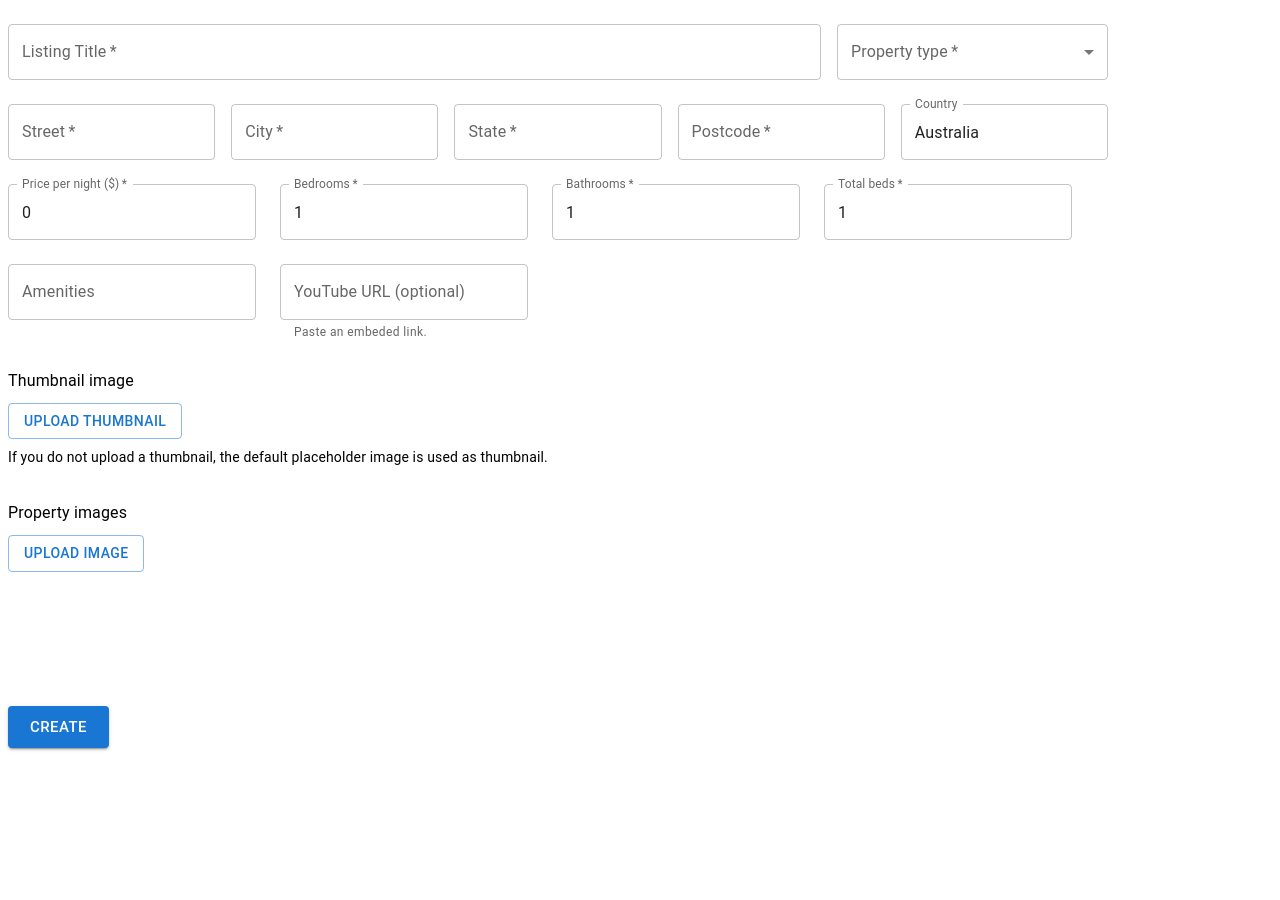
Test case: ListingForm › shows Add button only when amenity input has text
Expected: the button "Add" is not shown
Note: Type in amenity and Add button should appear
Type "WiFi" into the field labelled "Amenities" at (132, 292), box x1=8 y1=264 x2=256 y2=320
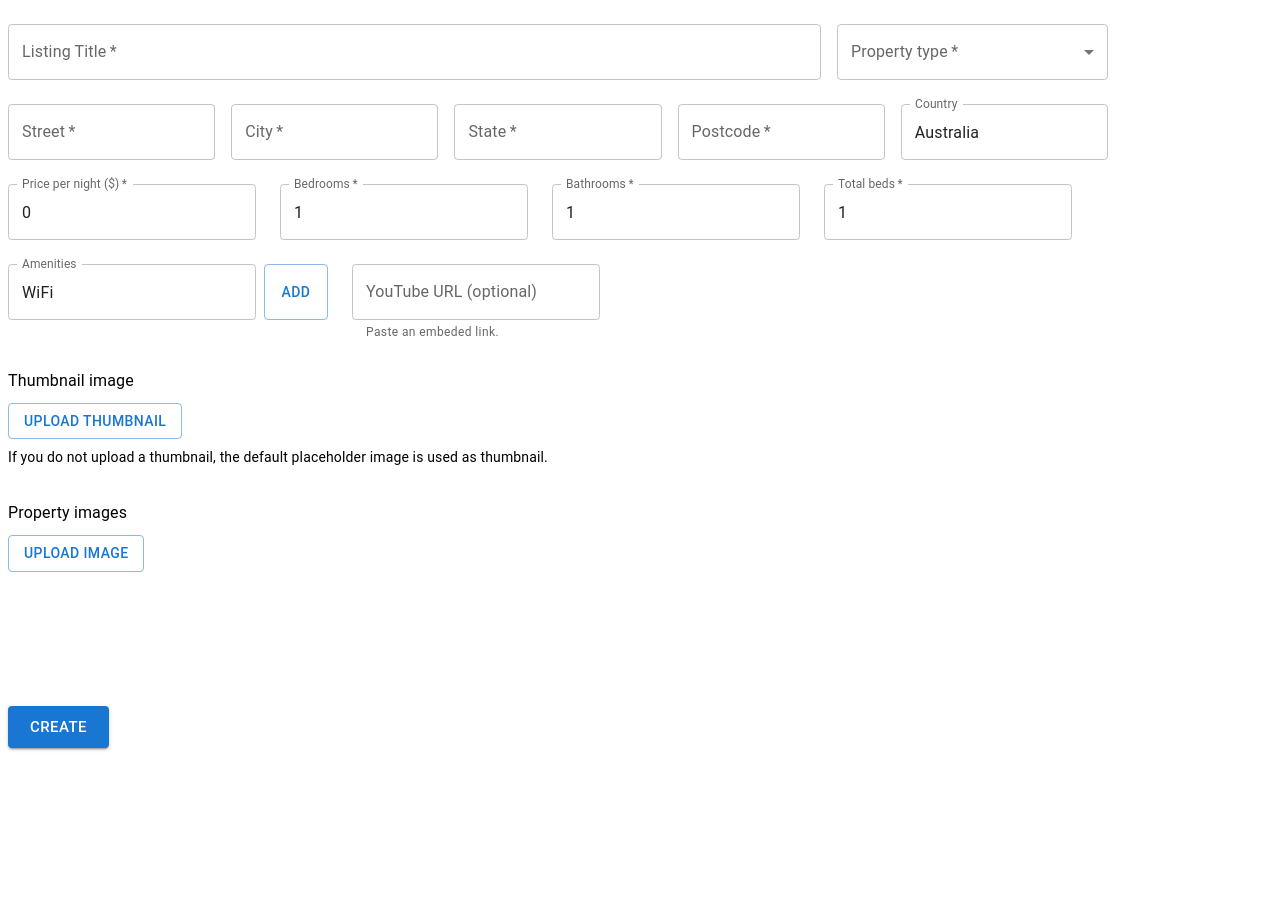
Now the button "Add" is shown, box x1=264 y1=264 x2=328 y2=320
